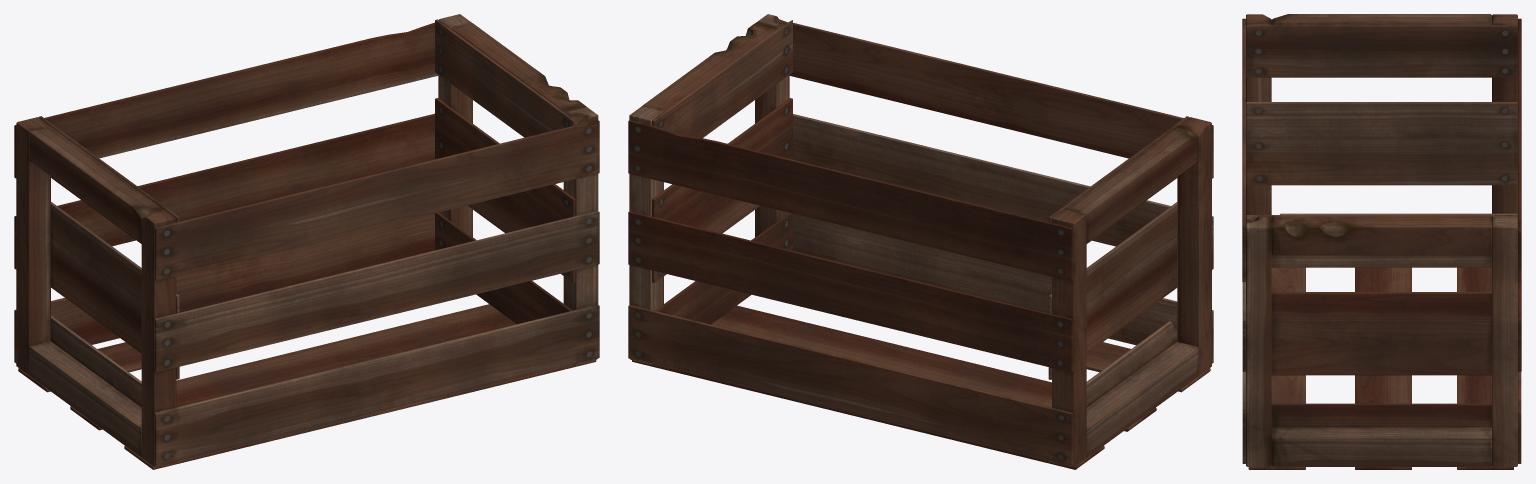
File: old_wooden_crate.glb
3 renders of one model, left to right at view 1: azimuth 30°, elevation 25°; view 2: azimuth 150°, elevation 25°; view 3: azimuth 270°, elevation 25°, orthographic.
Parts seen in each view (by area): view 1: polySurface607; view 2: polySurface607; view 3: polySurface607.
Part boxes in pixels (x1,y1,x2,y2): polySurface607: (14,14,599,469); polySurface607: (628,14,1213,469); polySurface607: (1242,14,1521,469).
Bounding box in the file's own units: 2 × 1.07 × 1.11.
Materials: 1 (1 with a texture image).
